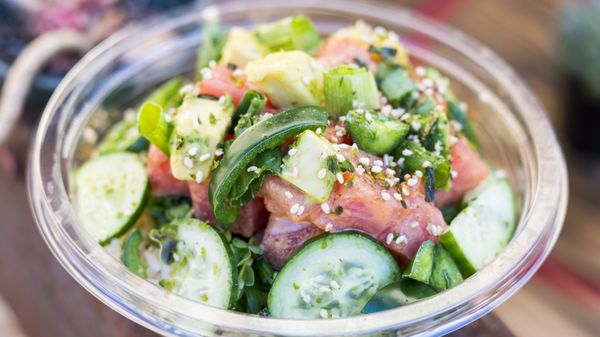curry: (319, 62, 381, 118), (253, 13, 324, 57)
sushi: (24, 5, 580, 334)
